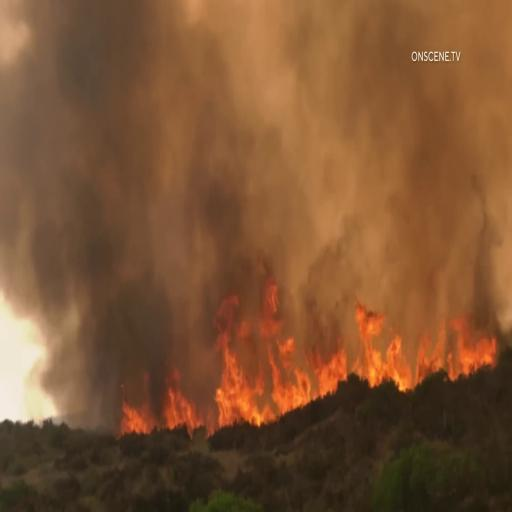fire: (206, 290, 270, 450), (256, 276, 308, 412), (346, 288, 412, 395), (415, 314, 502, 384), (158, 370, 210, 441), (304, 320, 348, 396), (116, 374, 154, 450)
smoke: (463, 182, 498, 312), (201, 192, 243, 294), (138, 266, 175, 368), (310, 226, 336, 344)
